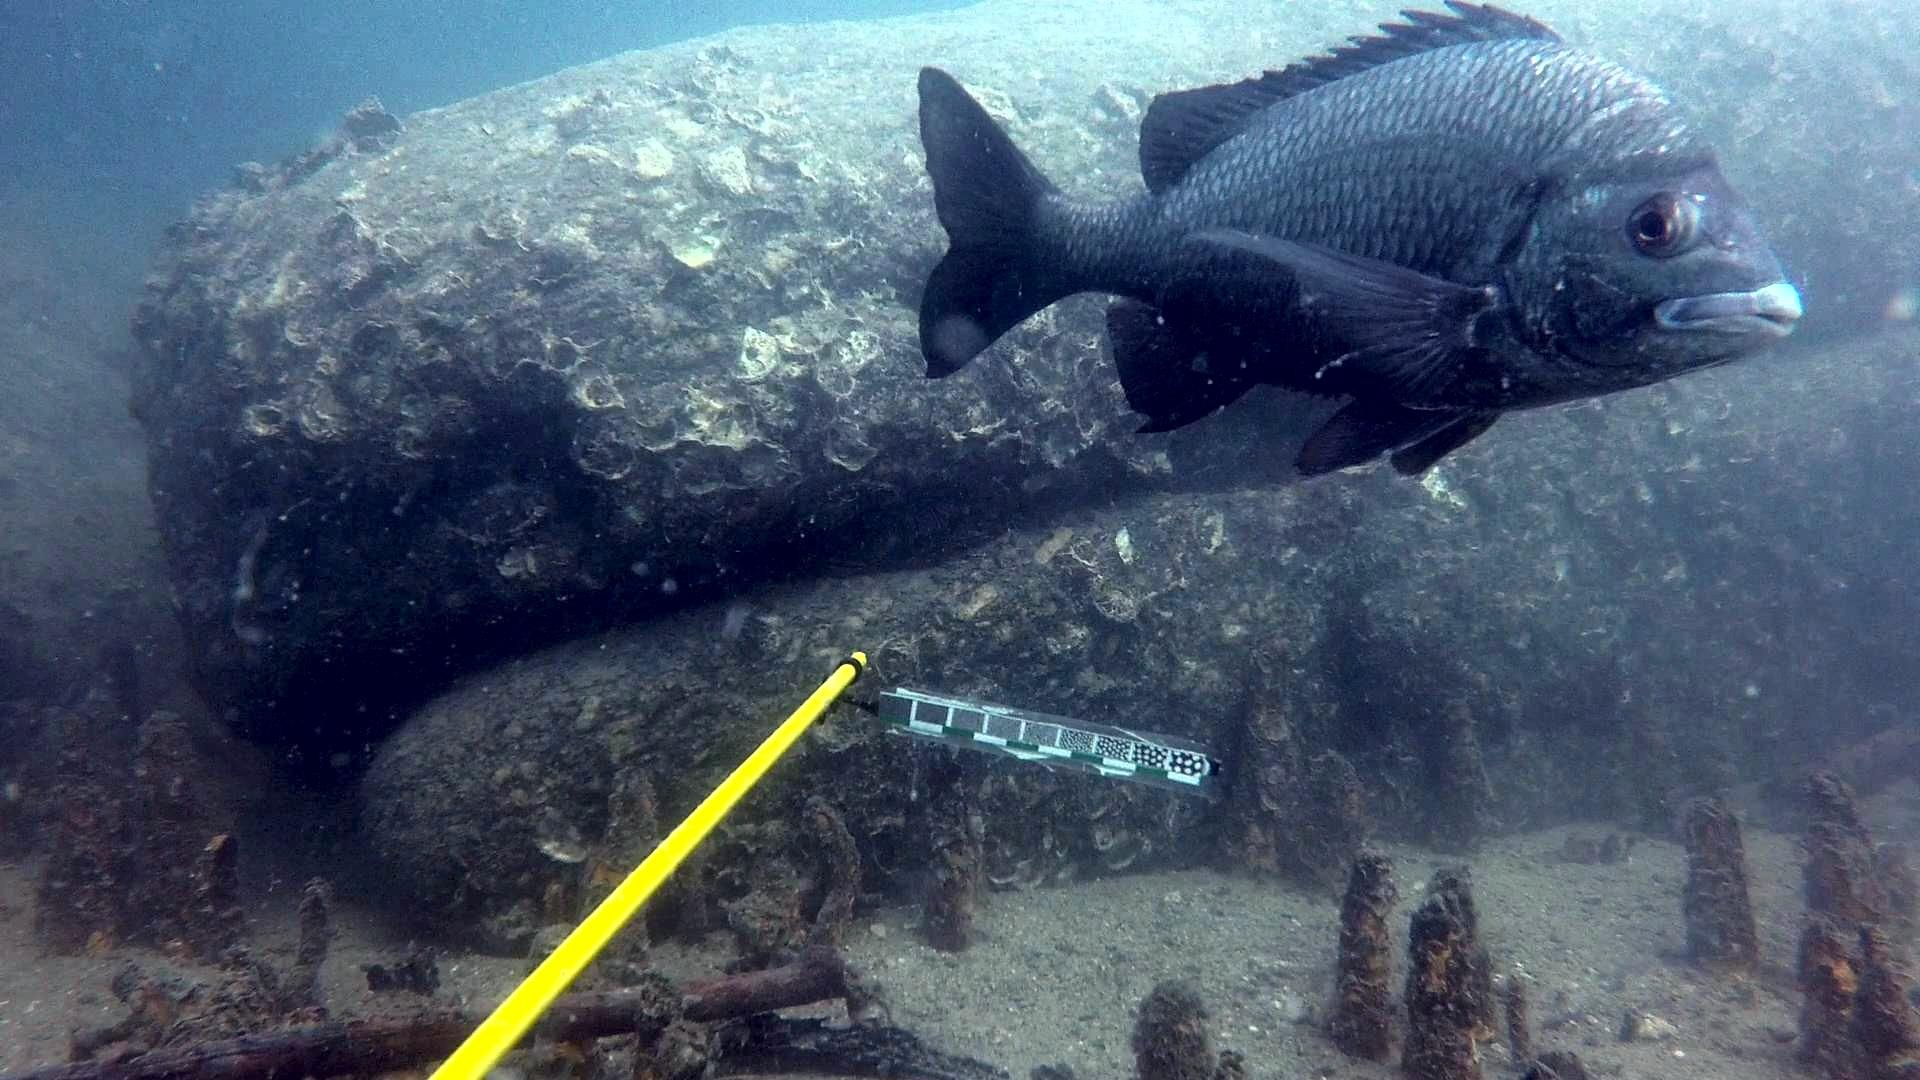acanthopagrus palmaris: (893, 0, 1808, 494)
